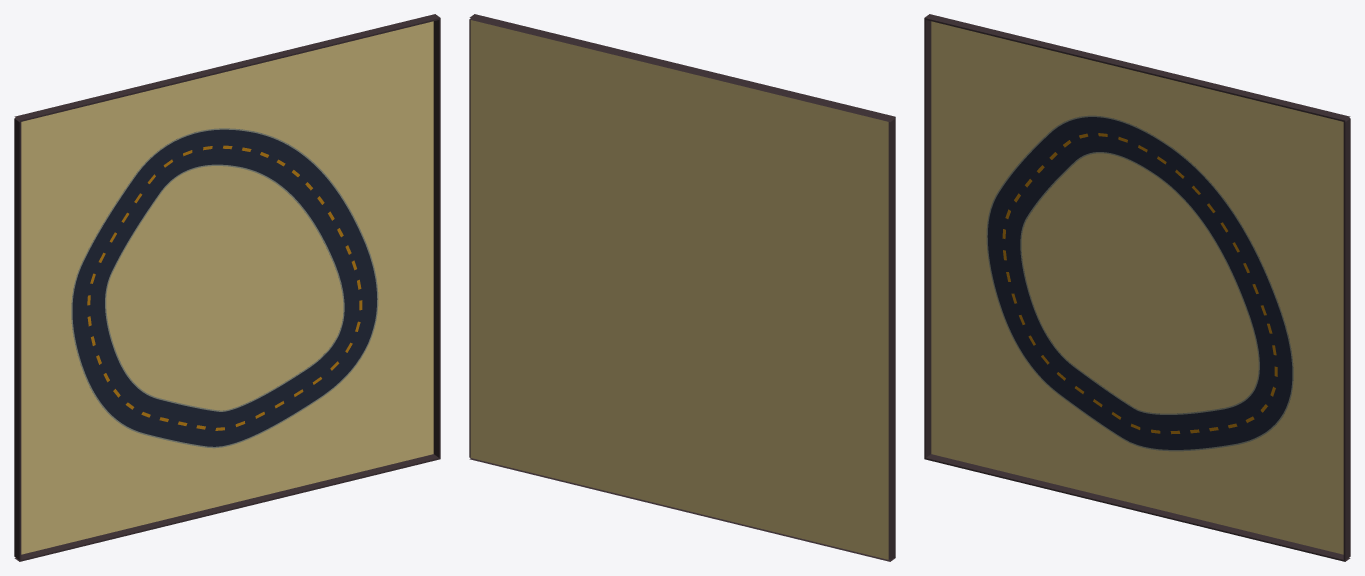
The model's file is track.obj.
The picture shows the model from 3 angles, left to right: view 1: azimuth 30°, elevation 25°; view 2: azimuth 150°, elevation 25°; view 3: azimuth 330°, elevation 25°; orthographic projection.
Size of the model in its own units: 13.57 by 13.59 by 0.3.
